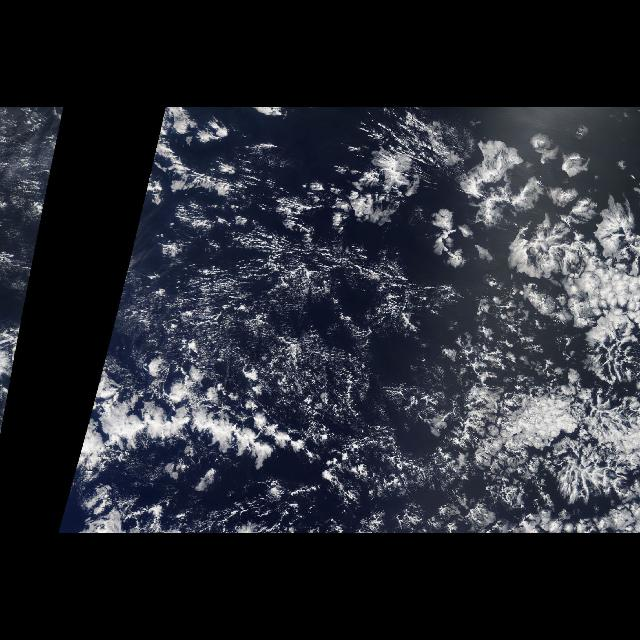Fish: (567, 207, 639, 495)
Flower: (396, 116, 636, 528)
Gravel: (146, 188, 524, 526)
